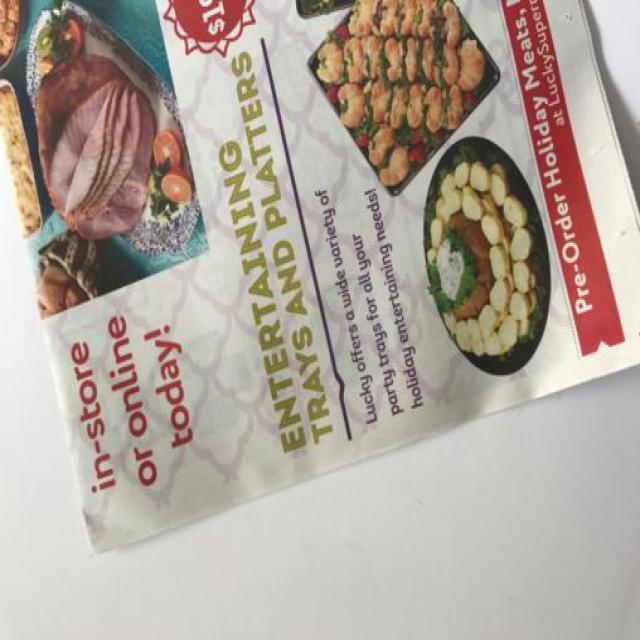kertas: (0, 0, 640, 557)
